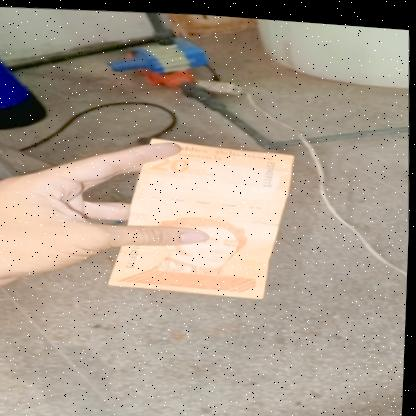twenty-front-vef: (105, 127, 300, 302)
